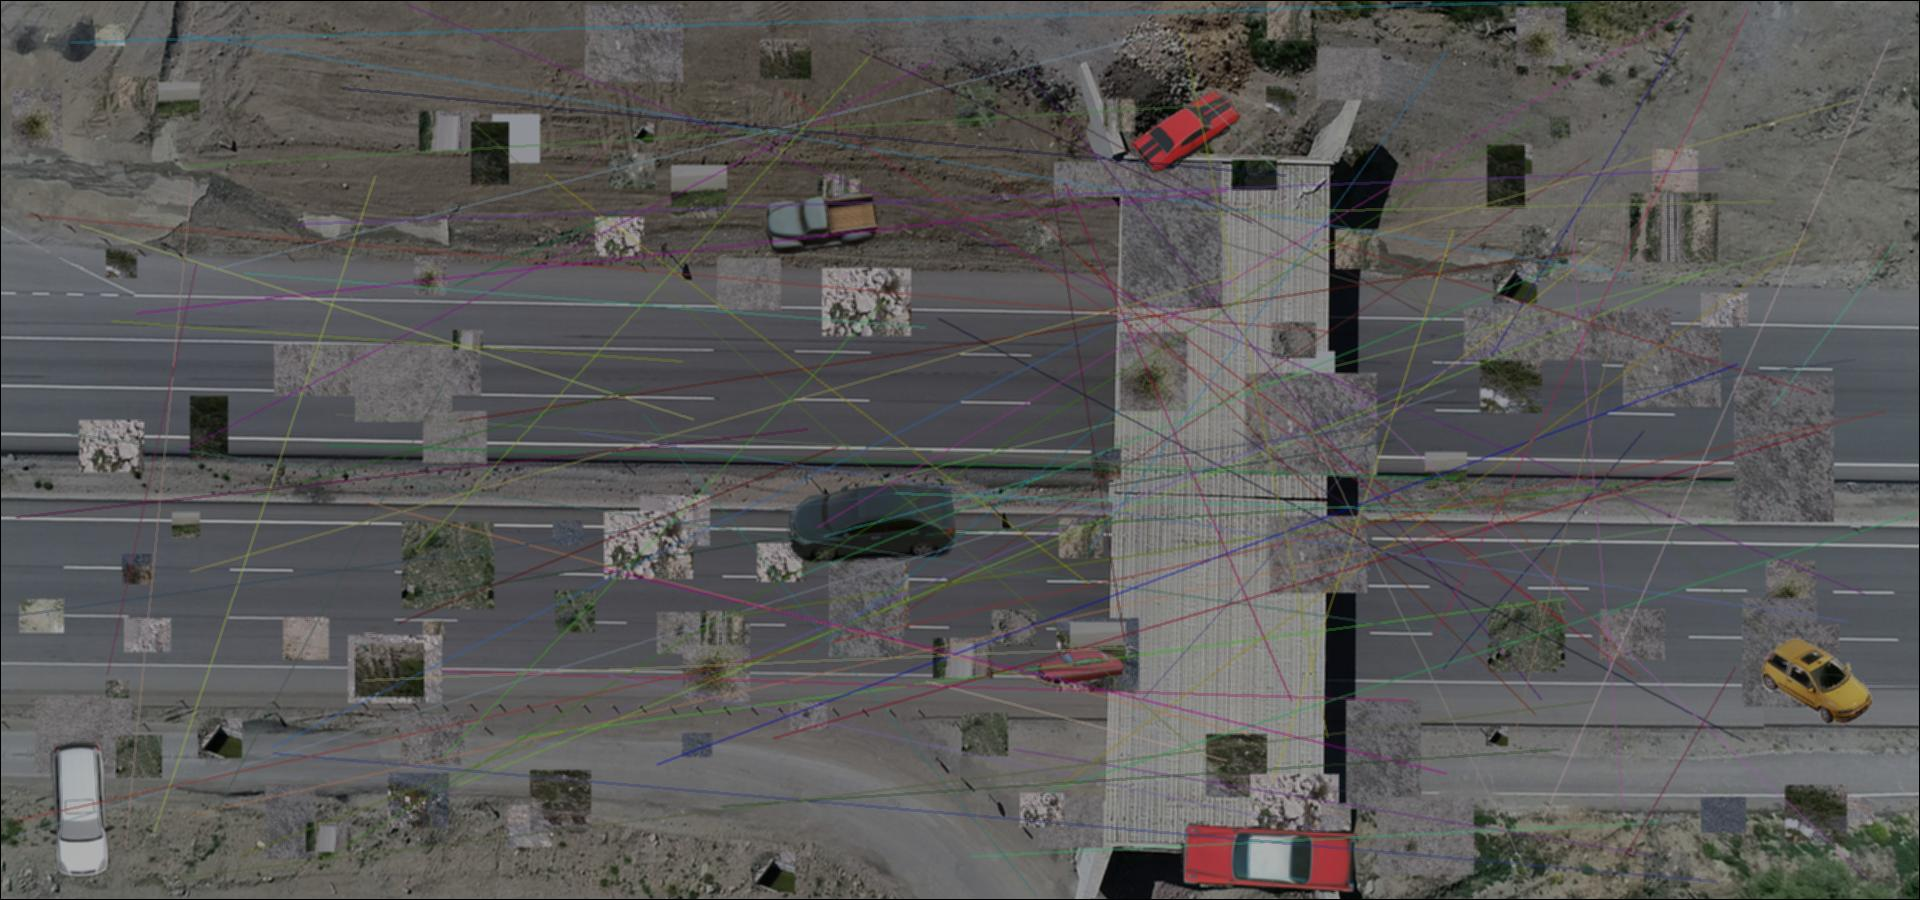arac: (786, 482, 960, 563), (1176, 819, 1359, 894), (40, 740, 118, 879), (1762, 636, 1872, 726), (1130, 89, 1243, 173), (765, 191, 882, 257), (1033, 648, 1127, 688)
